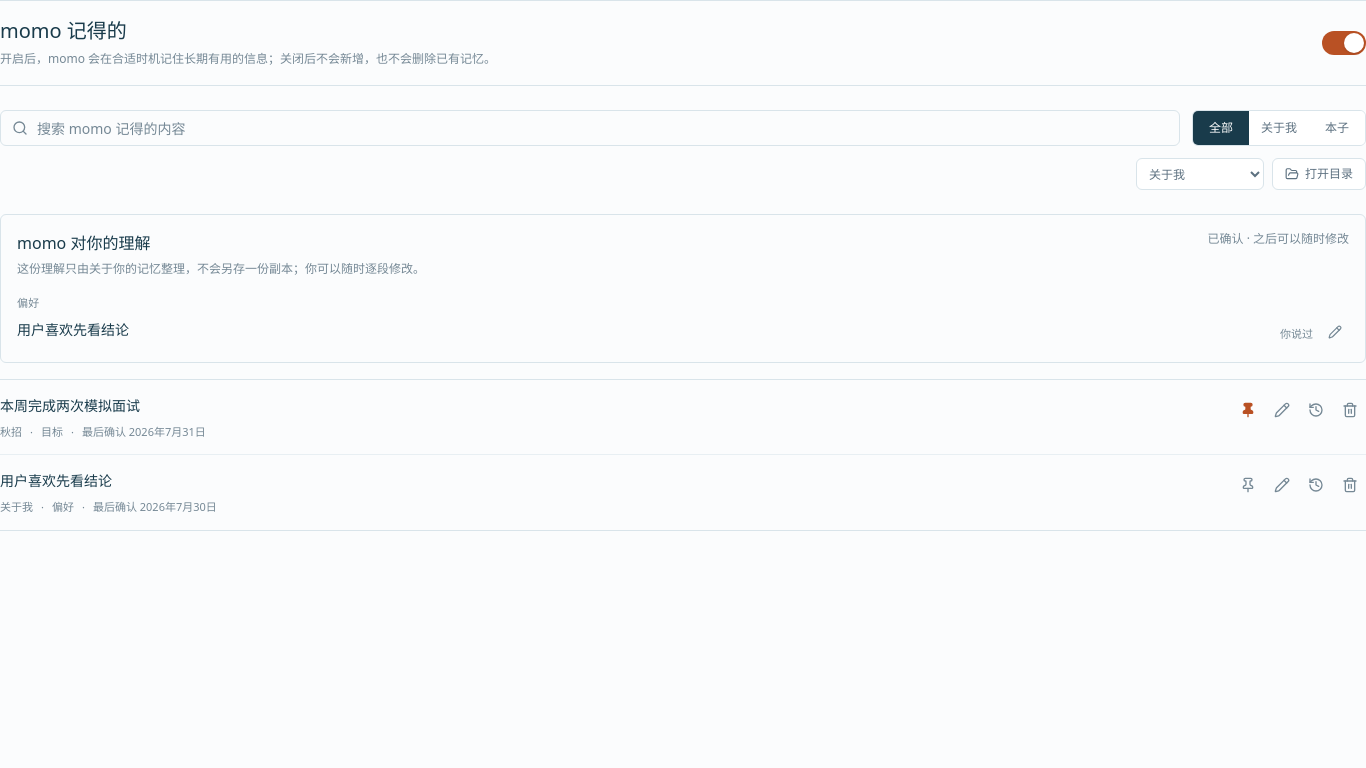
Test: MemorySettingsSection › edits and pins in place, then requires confirmation before forgetting
The width and height of the screenshot is (1366, 768).
Click the button named "编辑记忆：用户喜欢先看结论": coordinates (1282, 485) [1266,469,1298,501]
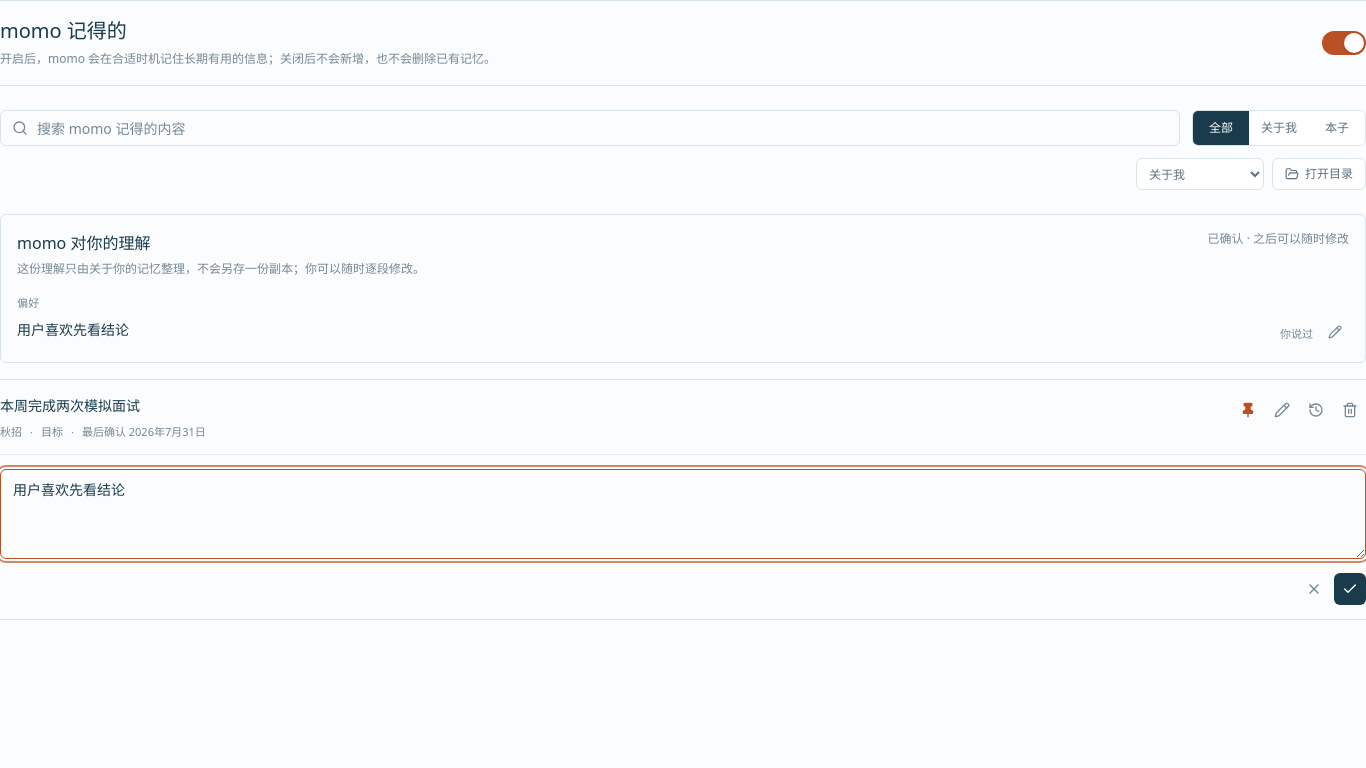
Replace the text in the text box named "编辑记忆内容" with "用户喜欢先给结论，再给必要依据": coordinates (683, 514) [0,469,1365,559]
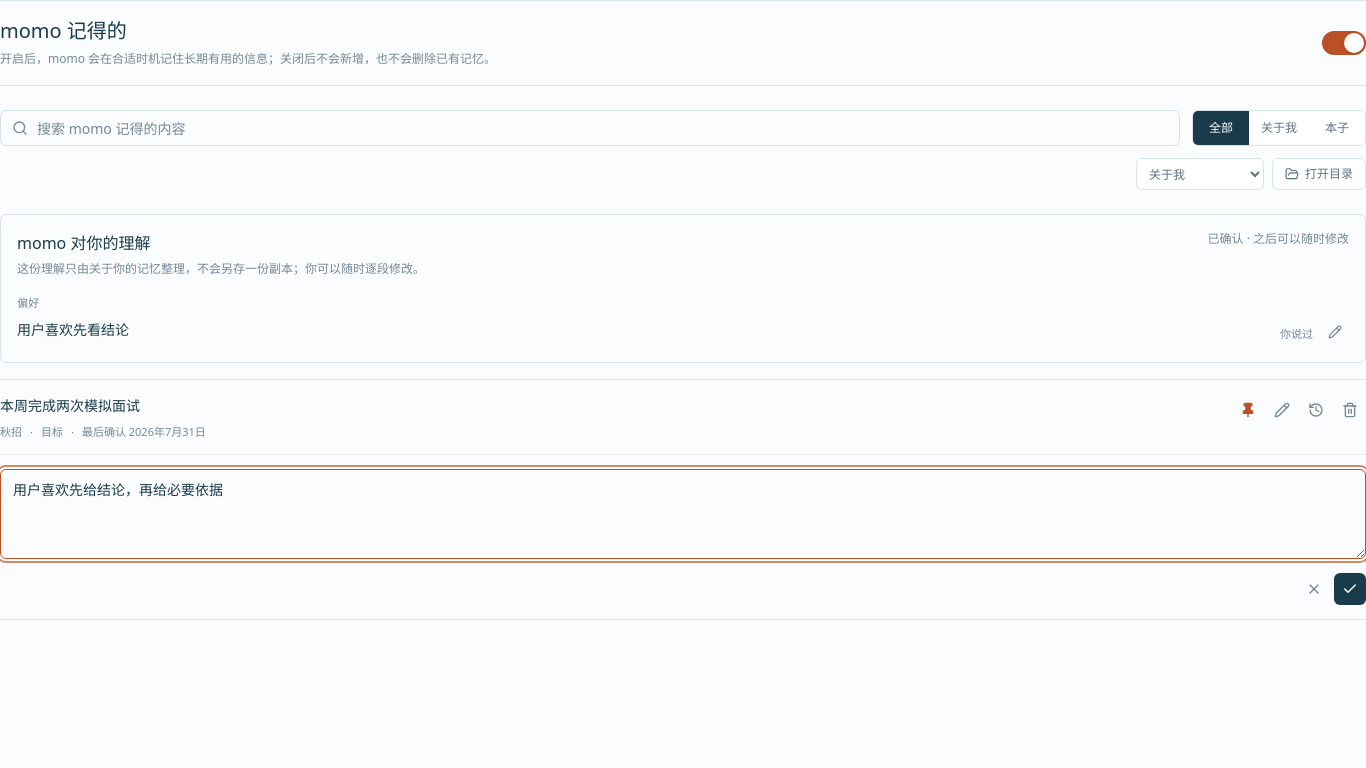
Click the button named "保存记忆修改": coordinates (1350, 589) [1334,573,1365,605]
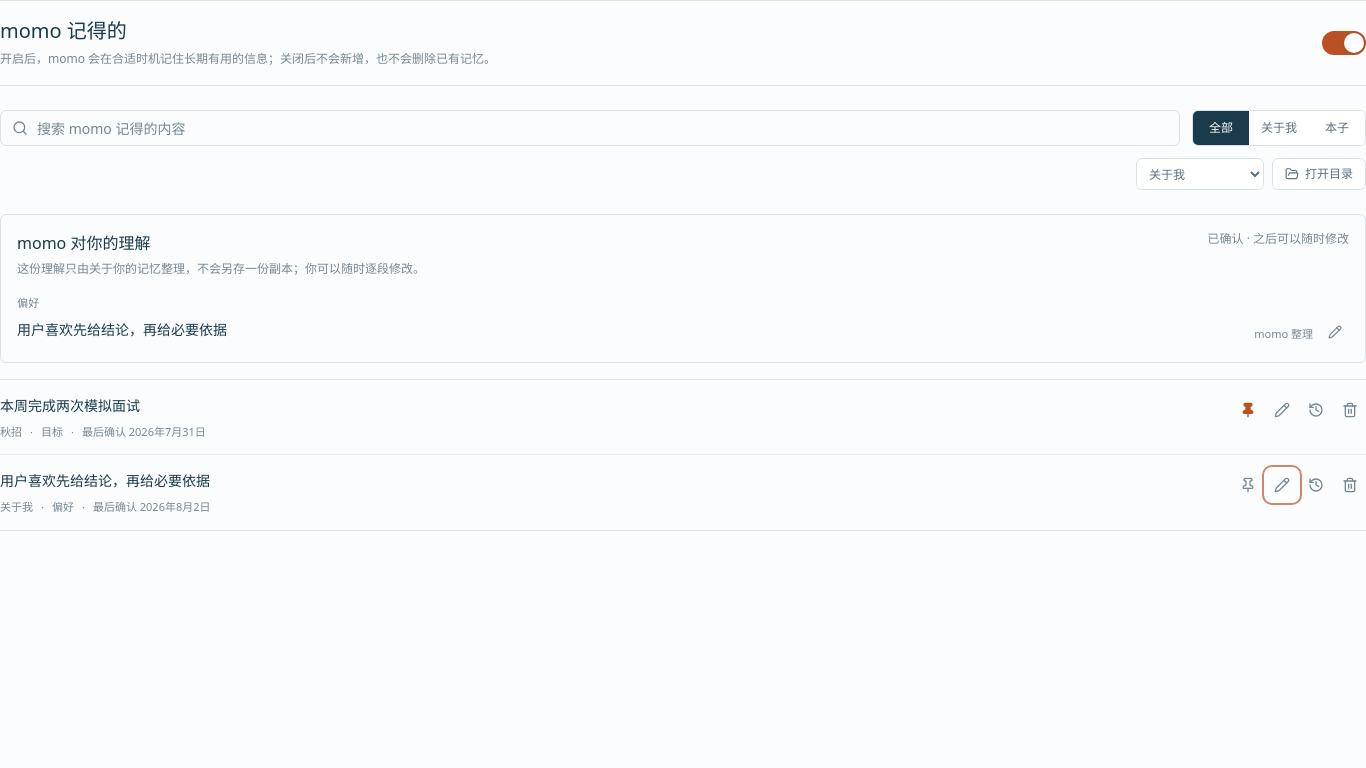
Expected: the text "用户喜欢先给结论，再给必要依据" below "秋招" is shown, [0,471,210,490]
Click the button named "置顶记忆：用户喜欢先给结论，再给必要依据": coordinates (1248, 485) [1232,469,1264,501]
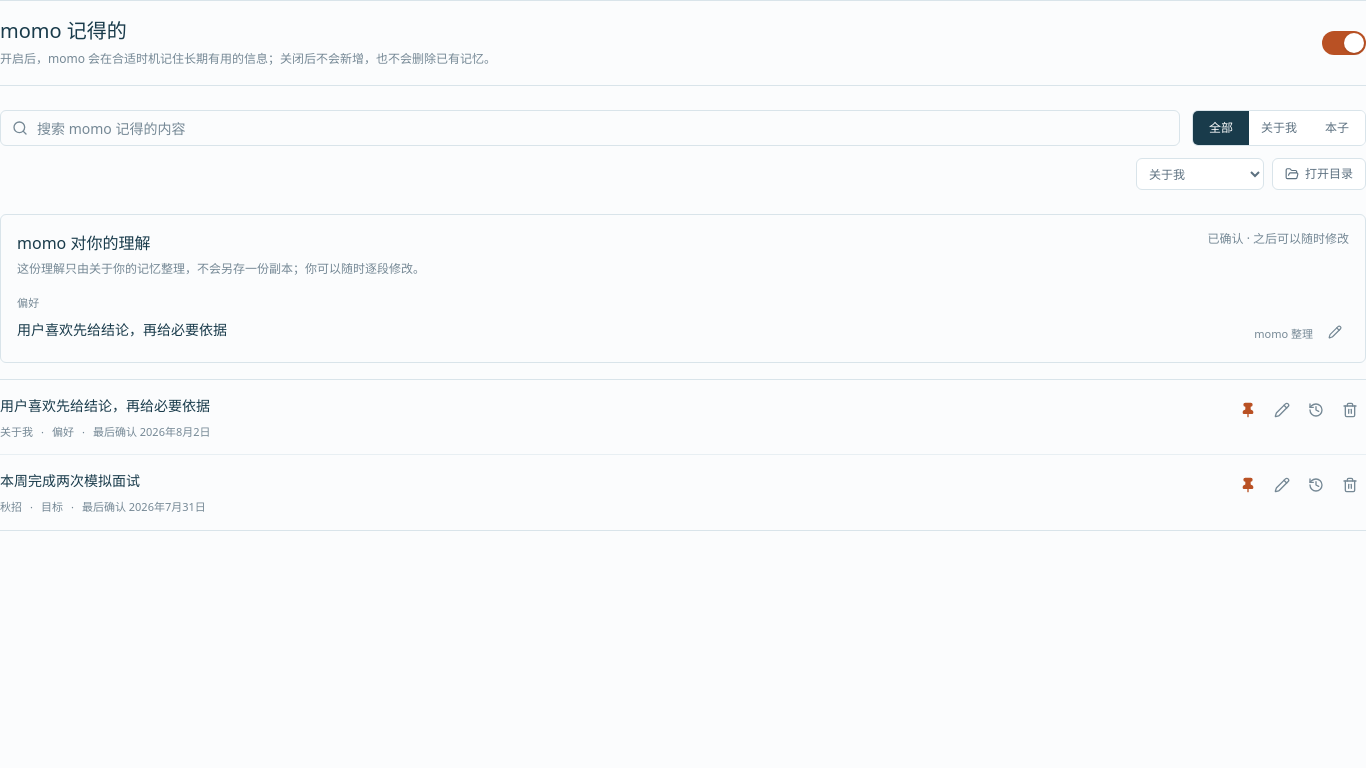
Click the button named "删除记忆：用户喜欢先给结论，再给必要依据": coordinates (1350, 410) [1334,394,1365,426]
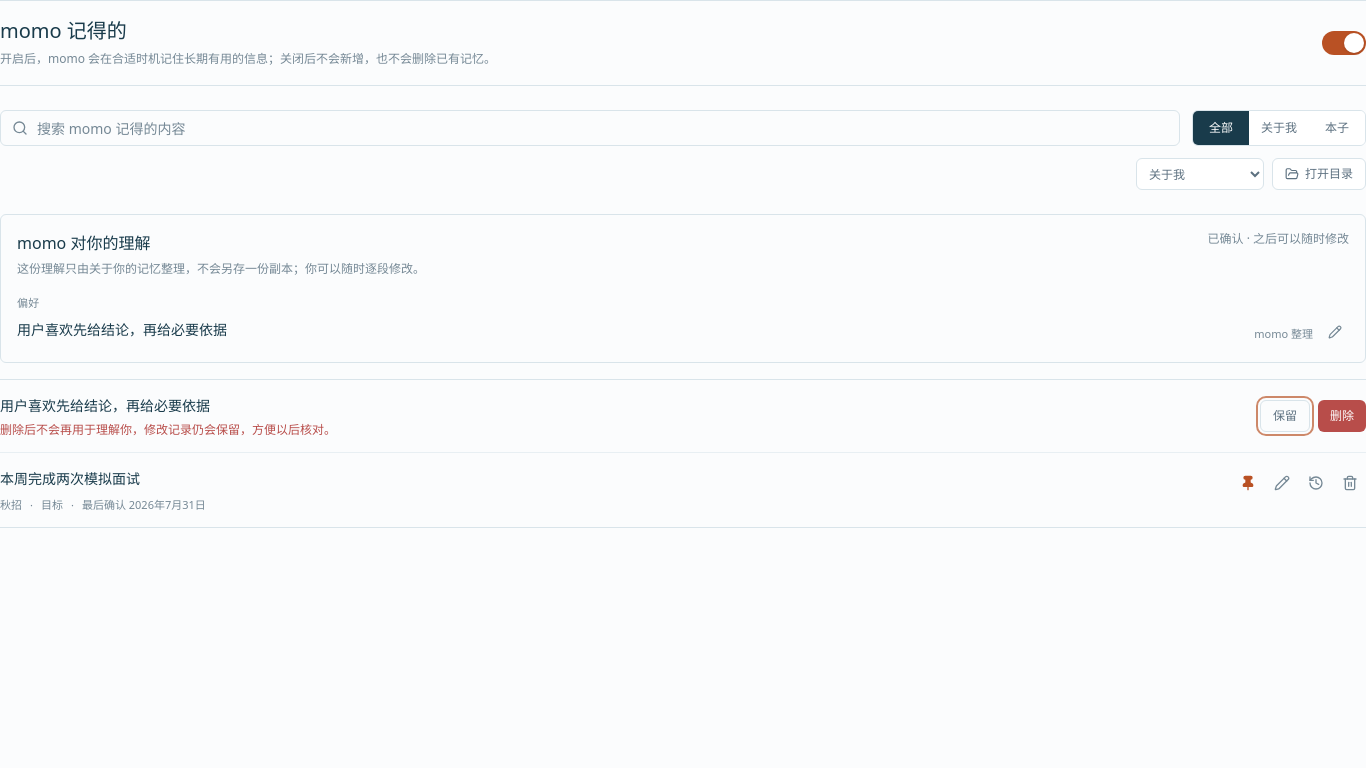
Expected: the text "用户喜欢先给结论，再给必要依据" next to "momo 整理" is shown, [17,320,227,338]
Expected: the dialog named "确认删除记忆" is shown, [0,394,1365,438]
Click the button with aria-label "确认删除这条记忆": coordinates (1342, 416) [1318,400,1365,432]
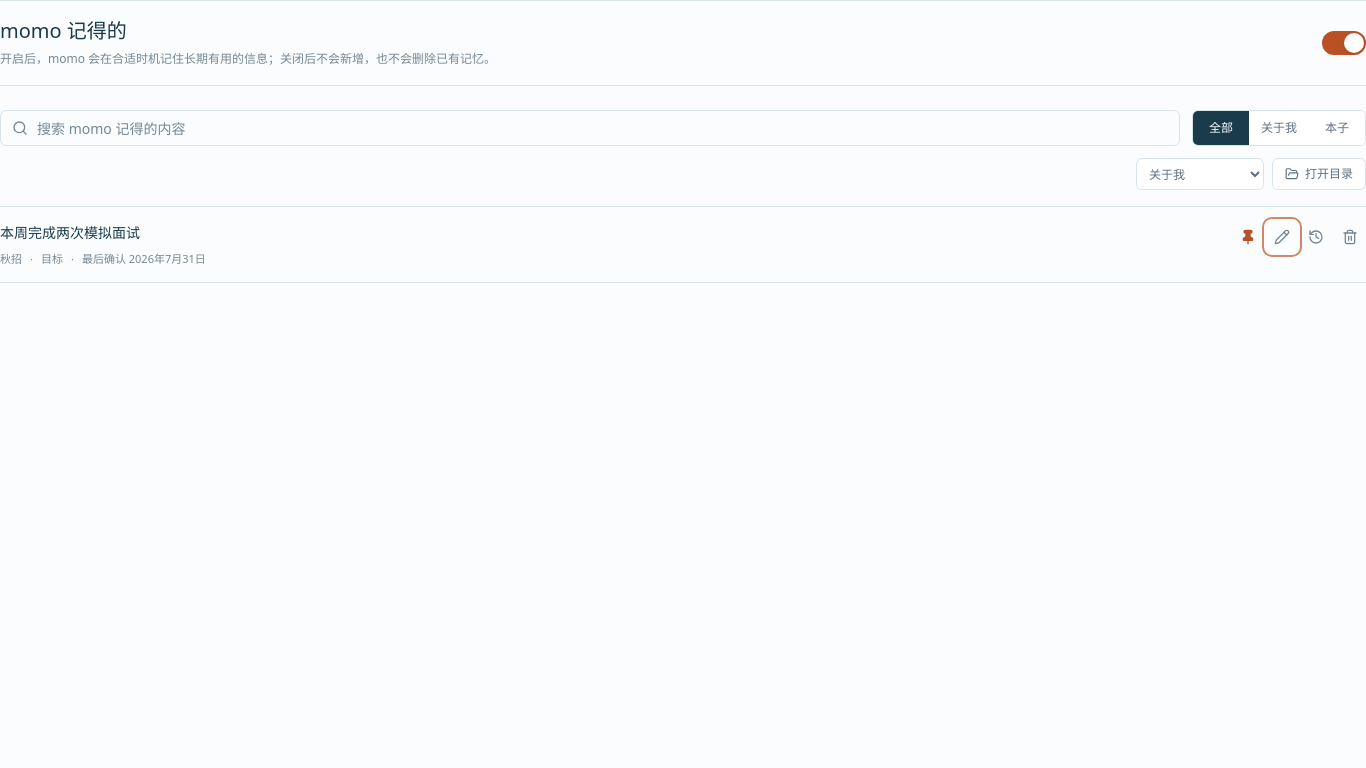
Expected: the text "用户喜欢先给结论，再给必要依据" is gone
